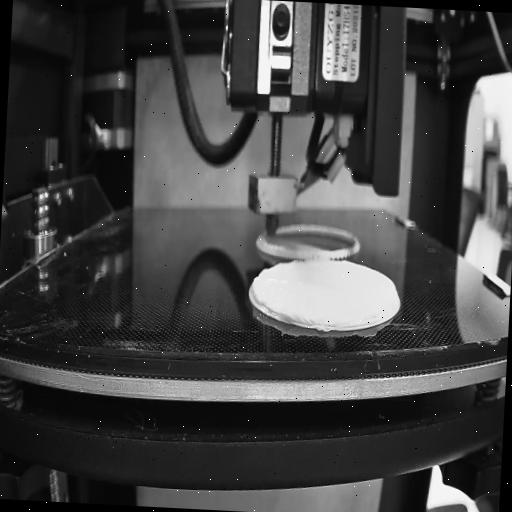over_extrusion: (250, 264, 274, 308)
